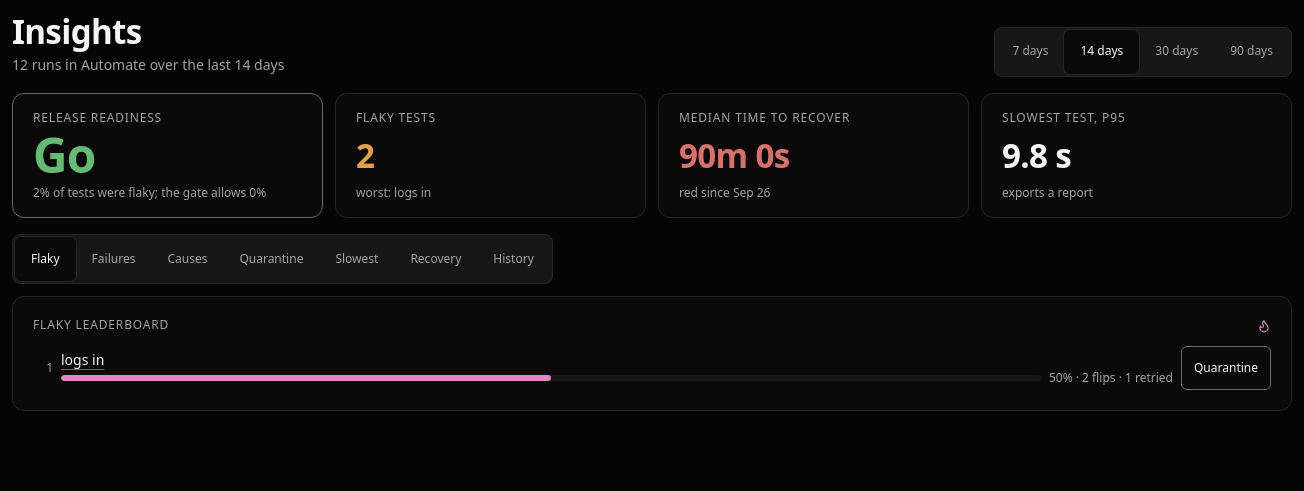
Test: the insights page › turns the panels into tabs on a narrow screen
Check: the element with test id "insights-flaky" is shown, box [12, 296, 1292, 411]
Click the button "Failures": [114, 259] box [76, 237, 151, 281]
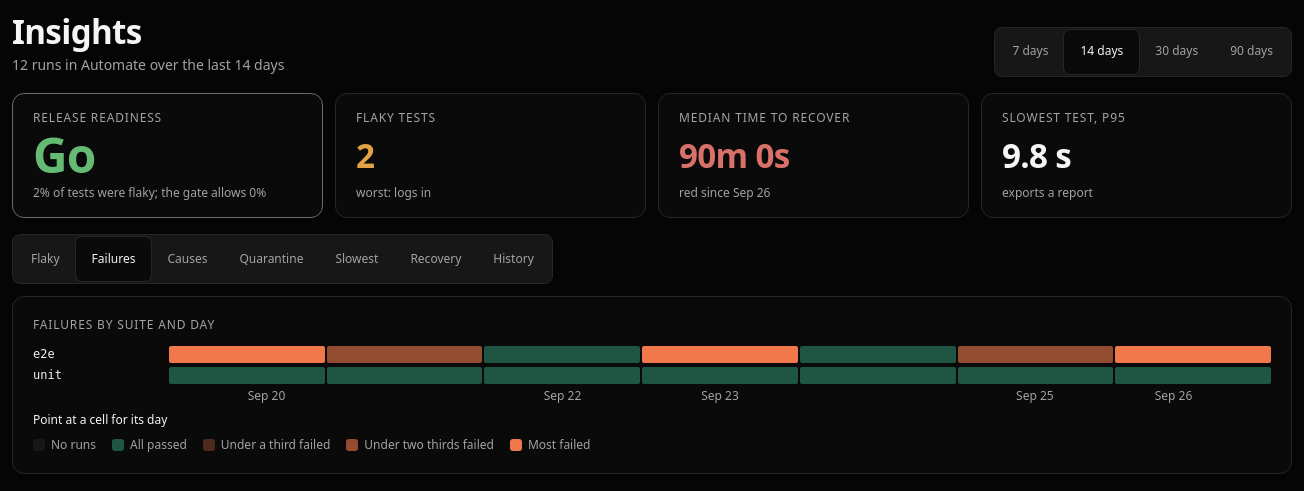
Check: the element with test id "insight-readiness" shows "Go", box [33, 122, 95, 187]
Check: the element with test id "insights-heatmap" is shown, box [12, 296, 1292, 474]
